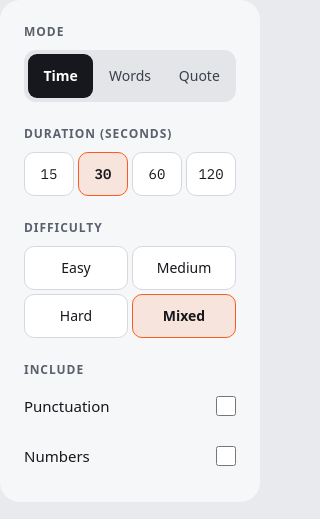
Scenario: SettingsPanel quote mode › brings the time controls back when leaving quote mode
Click the button "Quote".
click(199, 76)  # box [167,54,232,98]
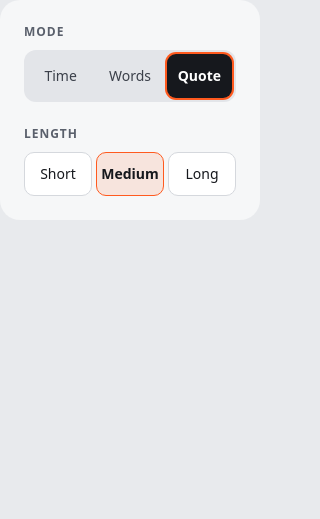
Click the button "Time".
click(61, 76)  # box [28,54,93,98]
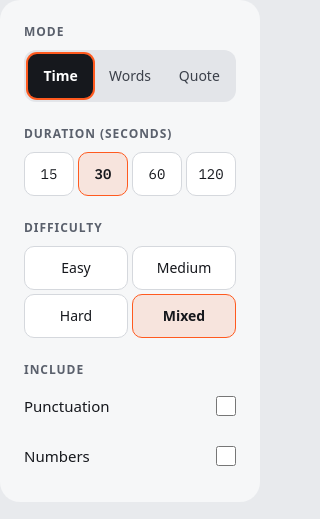
Expected: the element named "Time limit" is shown, [24,152,236,196]
Expected: the element named "Difficulty" is shown, [24,246,236,338]
